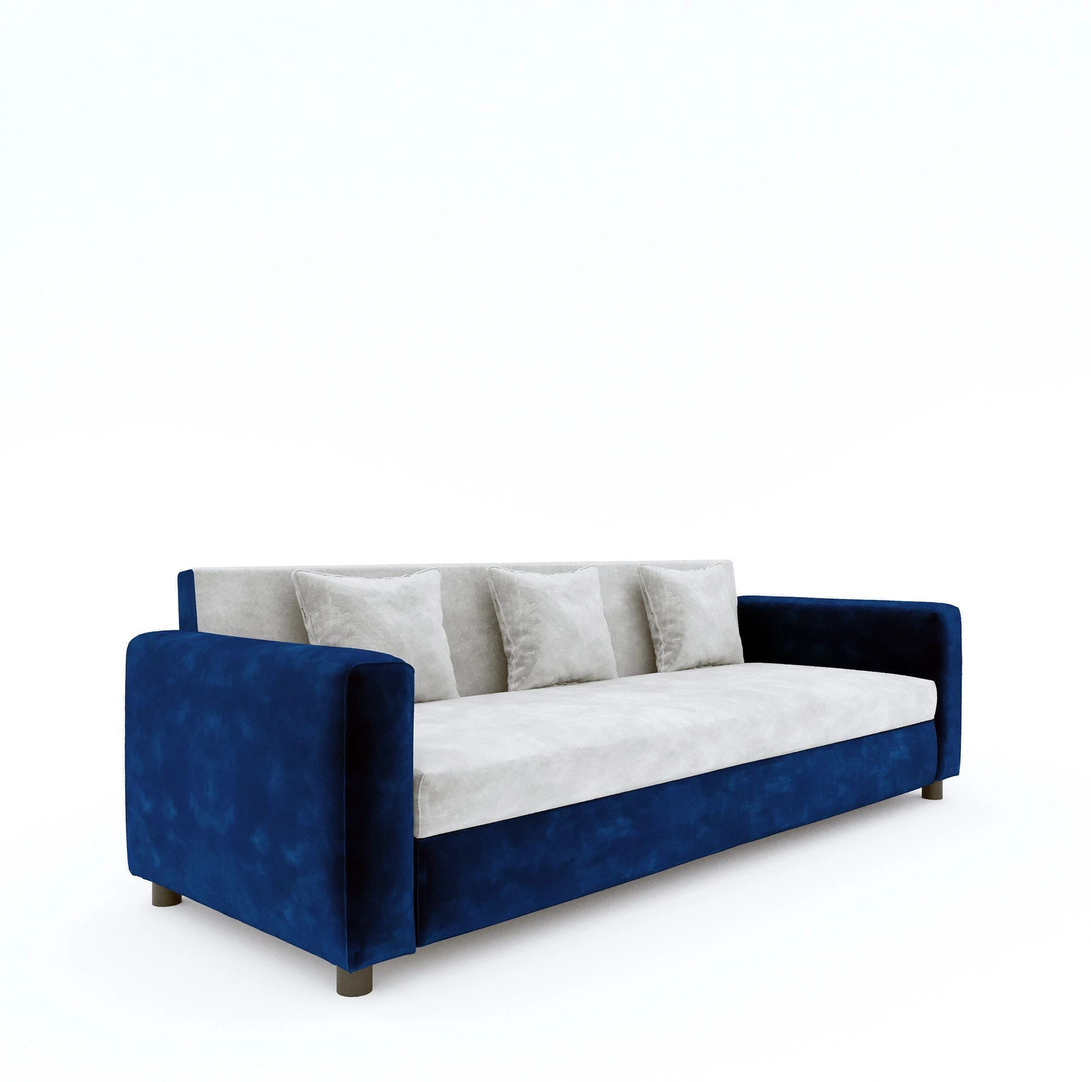3seatersofa: (126, 561, 961, 993)
backrest: (304, 564, 506, 696), (498, 560, 653, 676), (195, 568, 308, 643)
base: (418, 722, 934, 944)
leftarmrest: (740, 596, 960, 777)
leg: (185, 578, 186, 580)
pillow: (293, 570, 457, 701), (487, 567, 616, 690), (639, 564, 743, 672)
rightarmrest: (125, 630, 414, 968)
seat: (413, 664, 936, 837)
